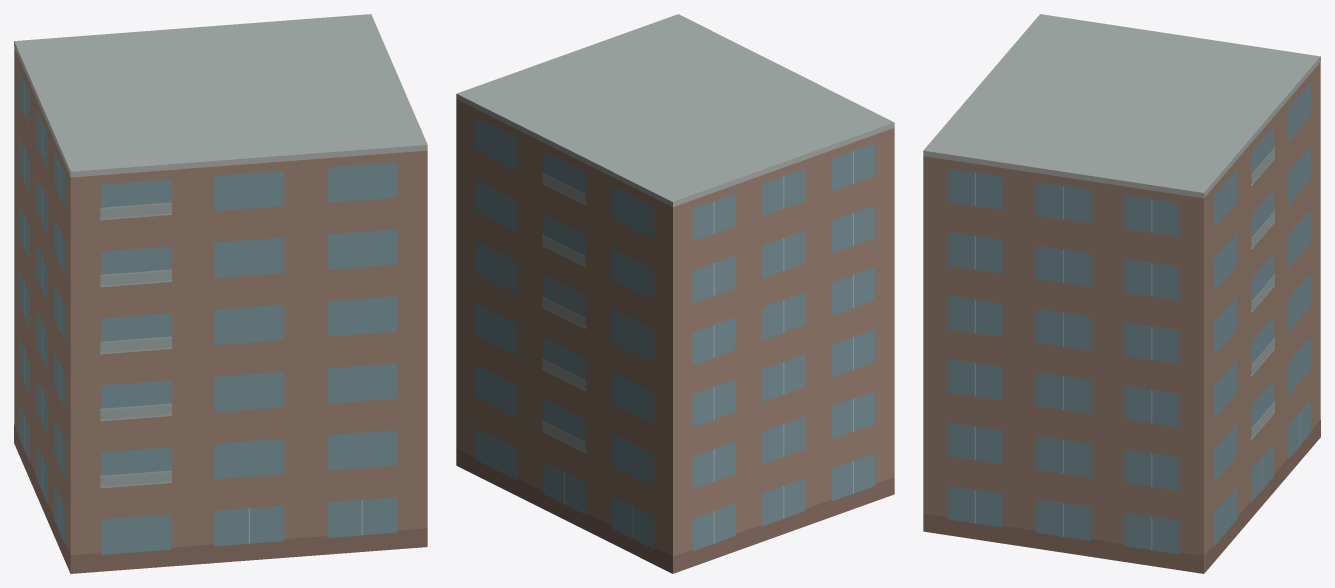
Rendered from survey-upis-32889802.glb.
The picture shows the model from 3 angles, left to right: view 1: azimuth 30°, elevation 25°; view 2: azimuth 150°, elevation 25°; view 3: azimuth 270°, elevation 25°; orthographic projection. The views are drawn at different scales.
Parts seen in each view (by area): view 1: survey-upis-32889802.tmp; view 2: survey-upis-32889802.tmp; view 3: survey-upis-32889802.tmp.
Part boxes in pixels (bbox=[...]): survey-upis-32889802.tmp: bbox=[14, 14, 427, 573]; survey-upis-32889802.tmp: bbox=[456, 14, 894, 573]; survey-upis-32889802.tmp: bbox=[923, 14, 1320, 573].
Size of the model in its own units: 17.34 by 17.2 by 16.28.
